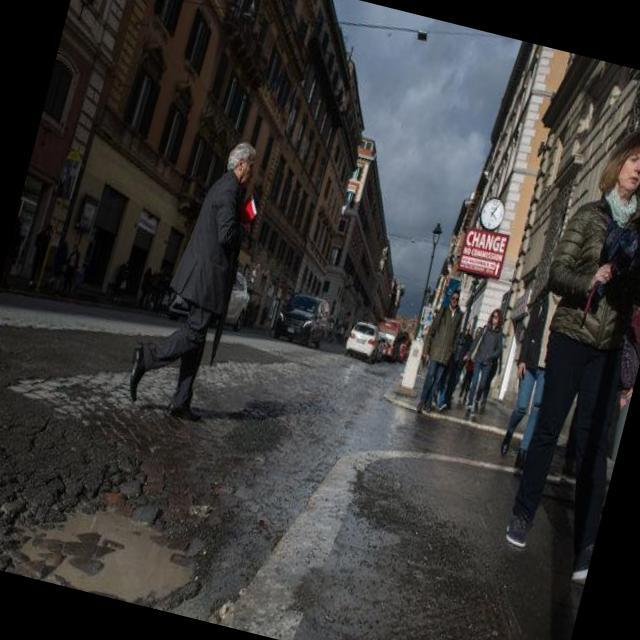Pothole: (0, 435, 231, 620)
